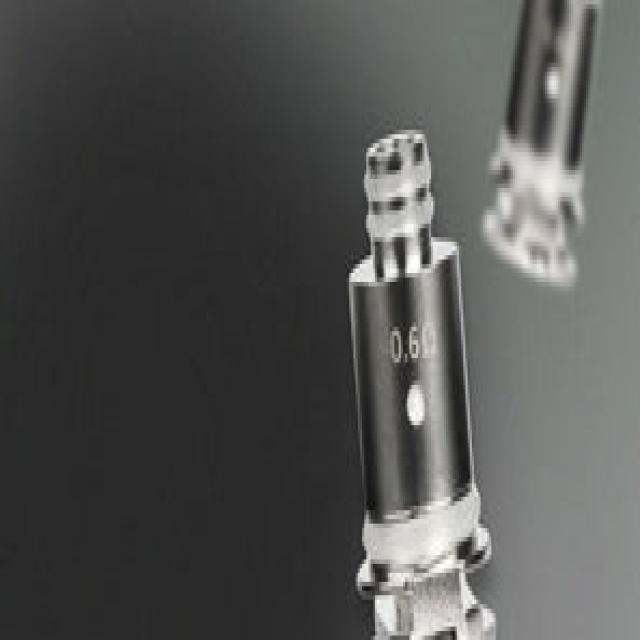Hazard: (345, 125, 498, 636)
